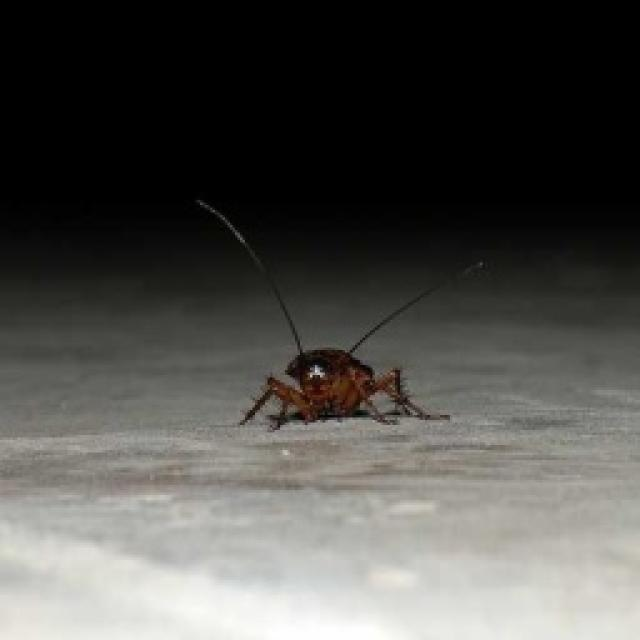cockroach: (185, 193, 495, 435)
